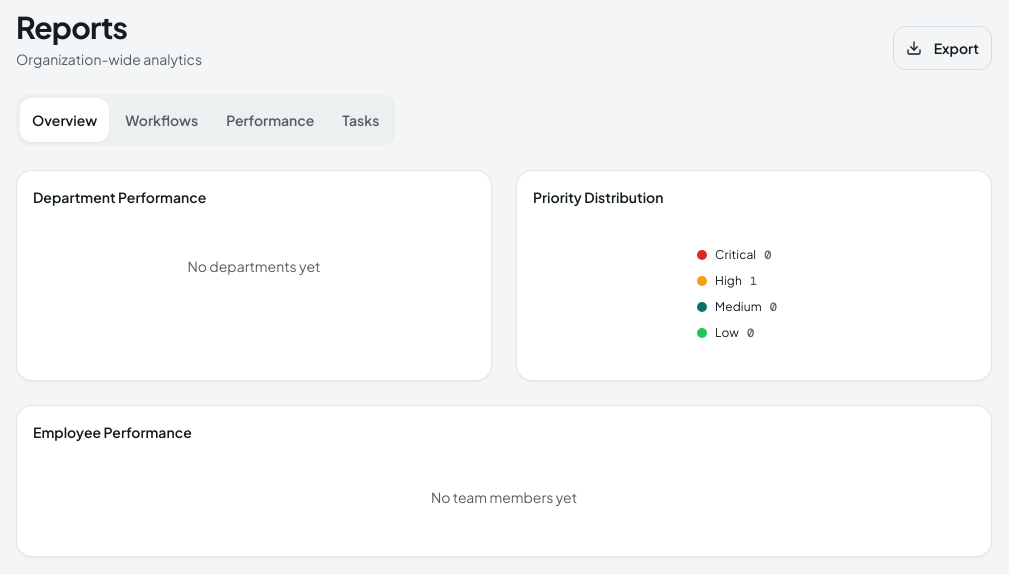
it: report and calendar clicks › switches the reports view to workflows
This screenshot has width=1009, height=574.
Click the tab "Workflows" at (162, 120), box [113, 98, 210, 142]
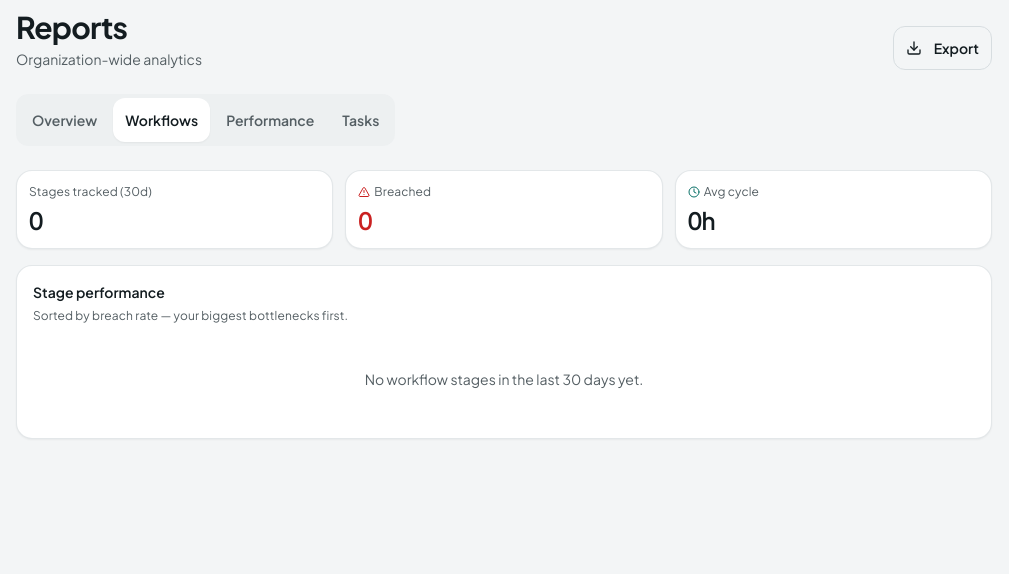
Result: the text "Stages tracked (30d)" is shown at [29, 184, 152, 199]
